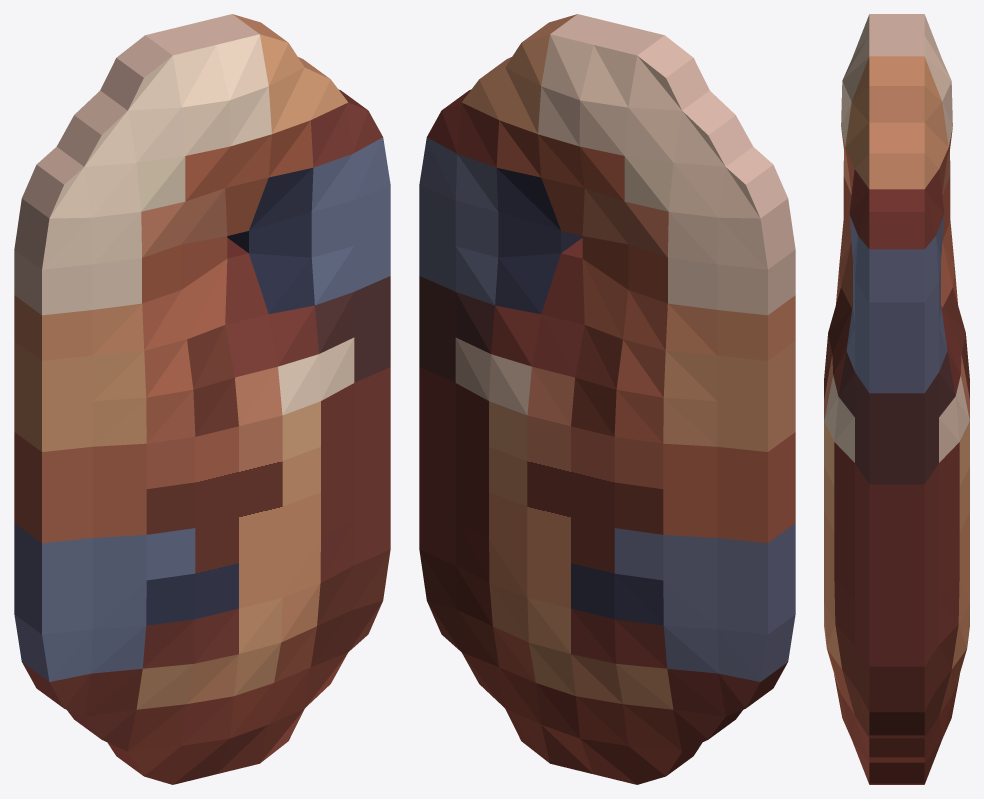
Rendered from chain.glb.
The picture shows the model from 3 angles, left to right: view 1: azimuth 30°, elevation 25°; view 2: azimuth 150°, elevation 25°; view 3: azimuth 270°, elevation 25°; orthographic projection.
Visible parts, largest first — view 1: chain; view 2: chain; view 3: chain.
Part boxes in pixels (x1=…): chain: x1=14, y1=14, x2=390, y2=784; chain: x1=419, y1=14, x2=795, y2=784; chain: x1=824, y1=14, x2=969, y2=784.
Size of the model in its own units: 0.5001 by 1 by 0.1813.
1 material, 1 textured.
